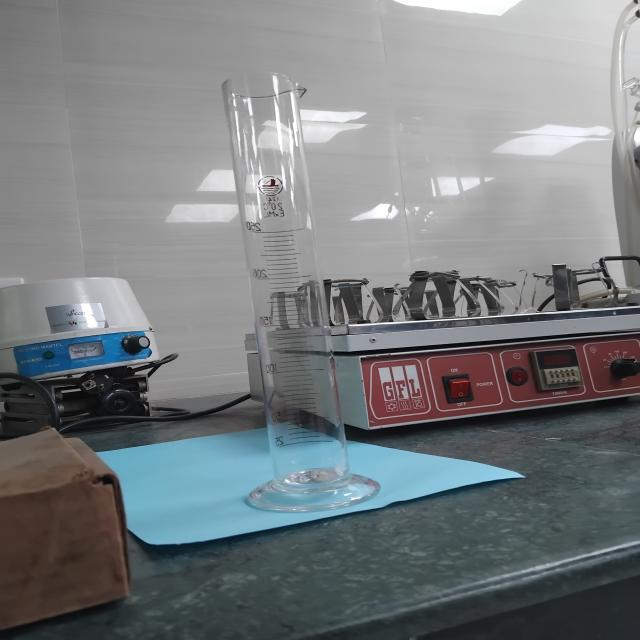Measuring_Cylinder: (192, 49, 412, 532)
